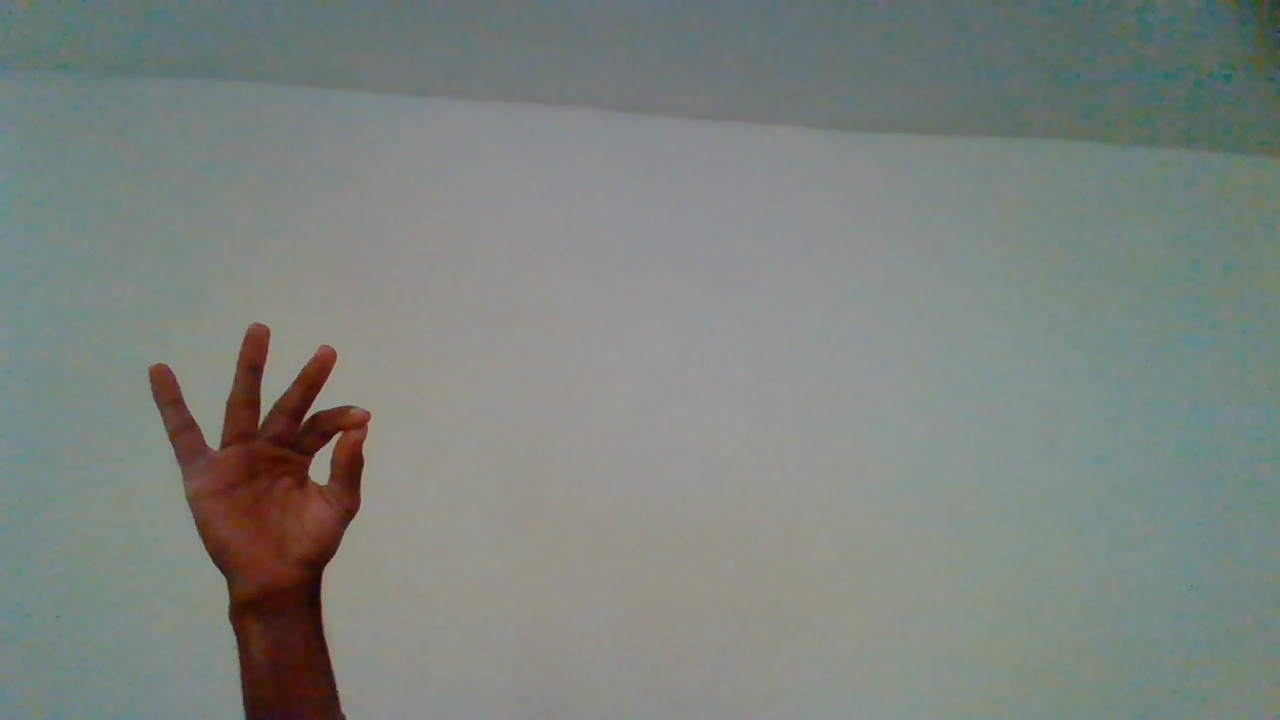le: (143, 321, 374, 706)
